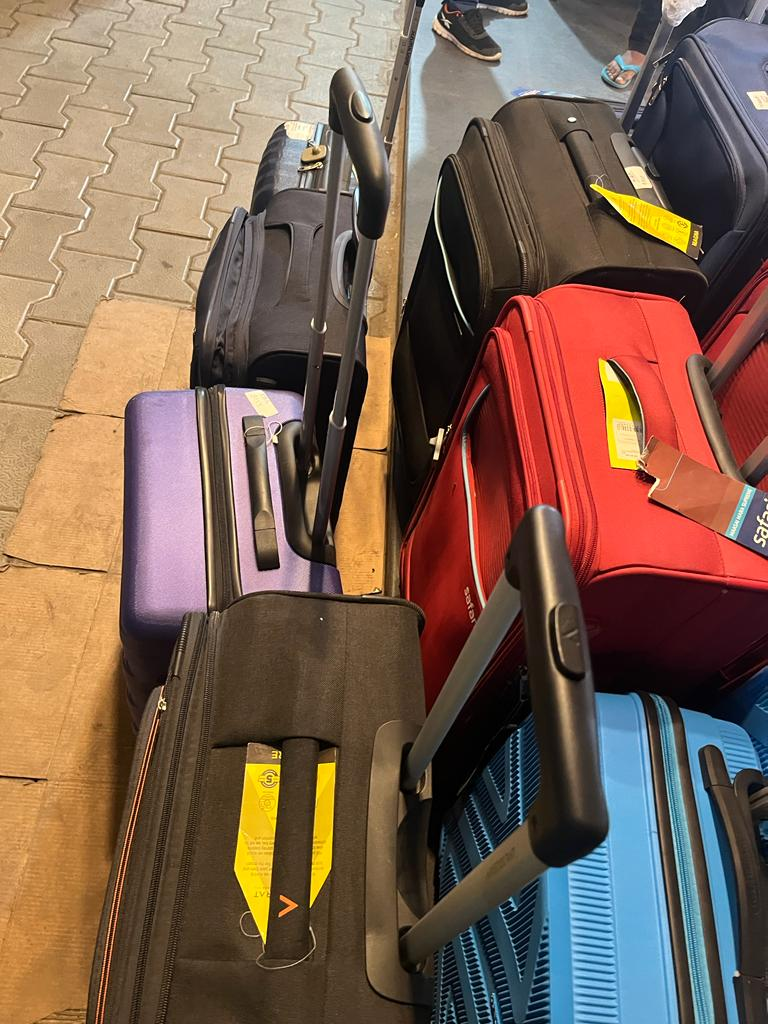Bag: (76, 592, 449, 1024), (421, 286, 768, 715), (96, 366, 386, 609), (436, 75, 675, 320), (179, 179, 388, 405), (258, 112, 386, 185)
Handle: (396, 482, 616, 1024), (296, 60, 400, 606)
